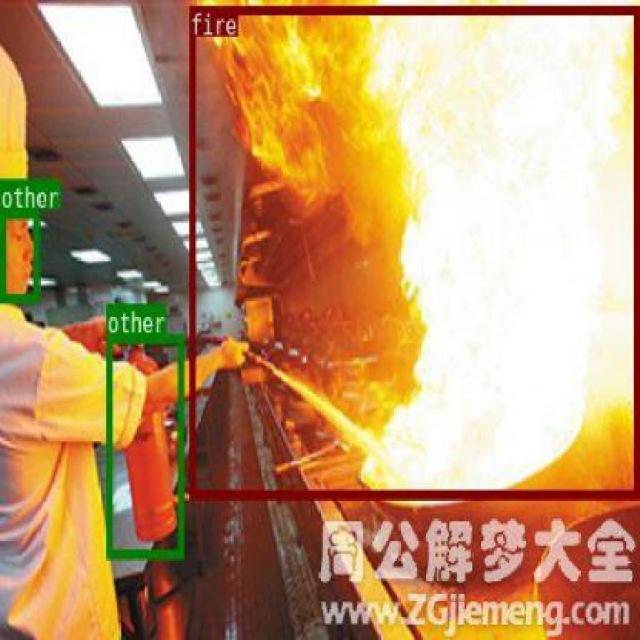Fire: (188, 4, 638, 496)
